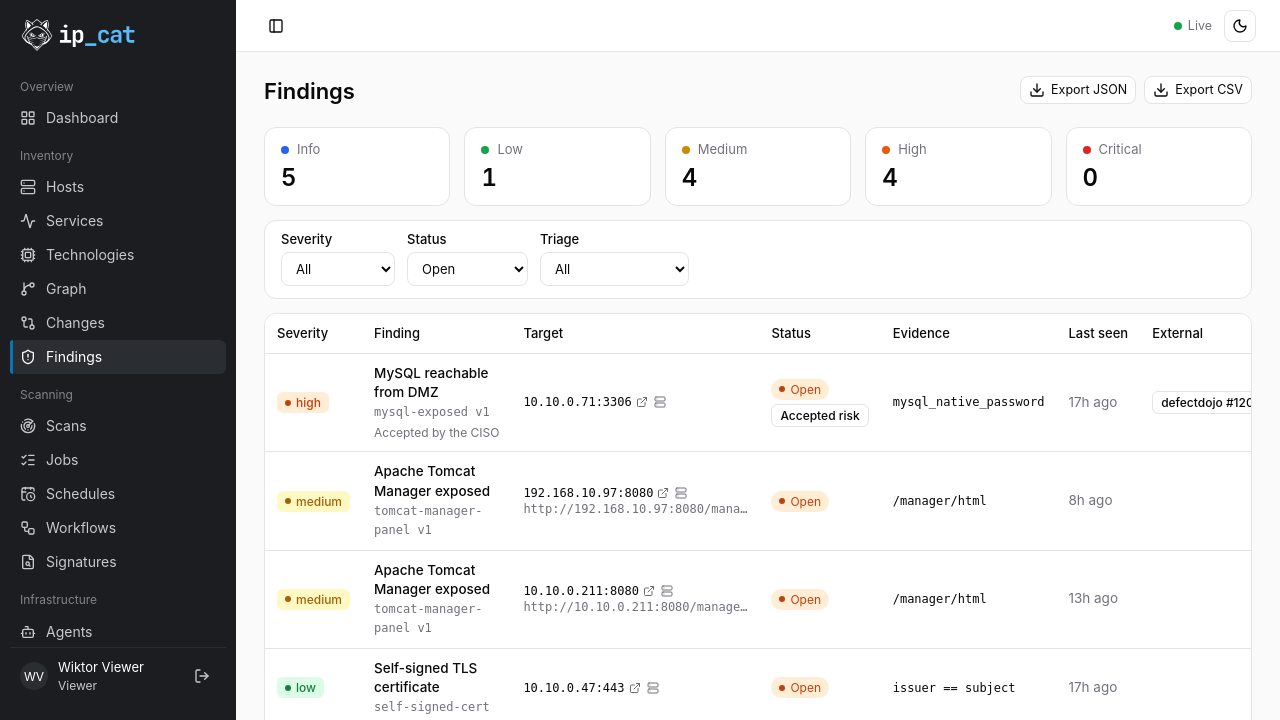
Test: findings triage › filters by triage and hides editing from viewers
Select "Accepted risk" in the dropdown labelled "Triage" at (614, 269), box [540, 252, 689, 286]
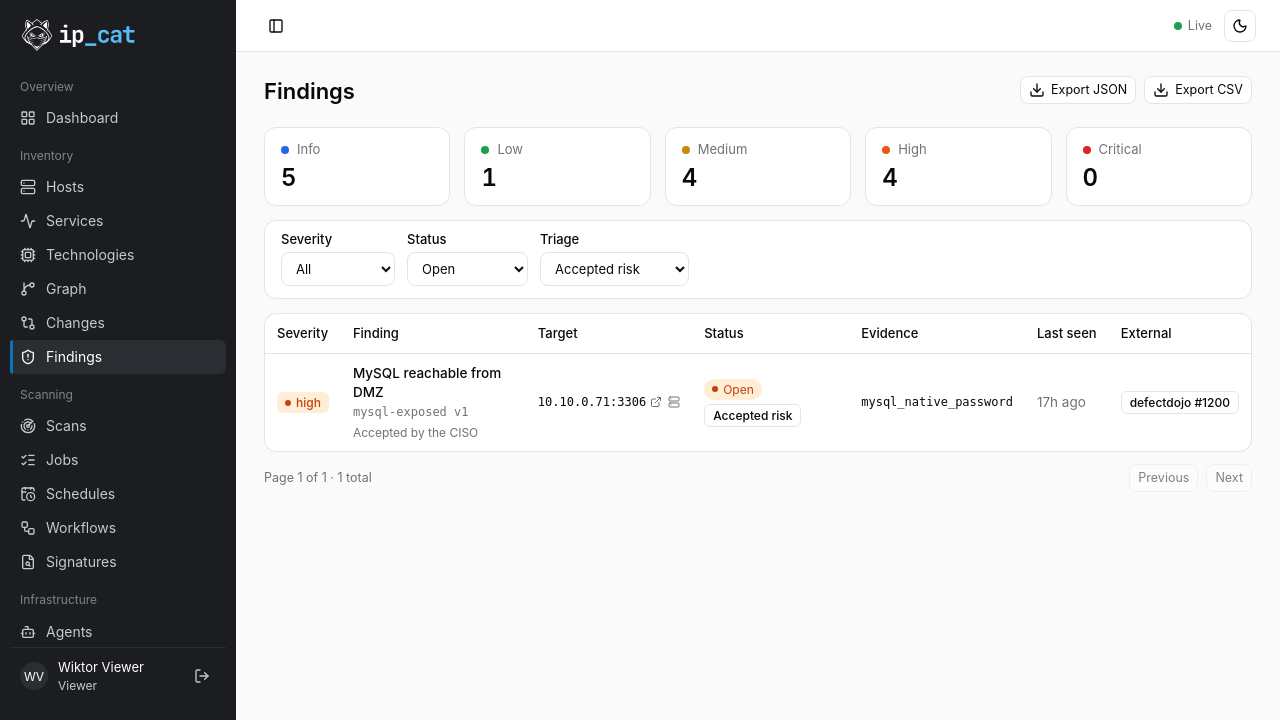
Expected: the text "Accepted risk" is shown, [704, 404, 802, 427]
Expected: the number of rows is 2, [265, 314, 1251, 353]; [265, 353, 1251, 451]
